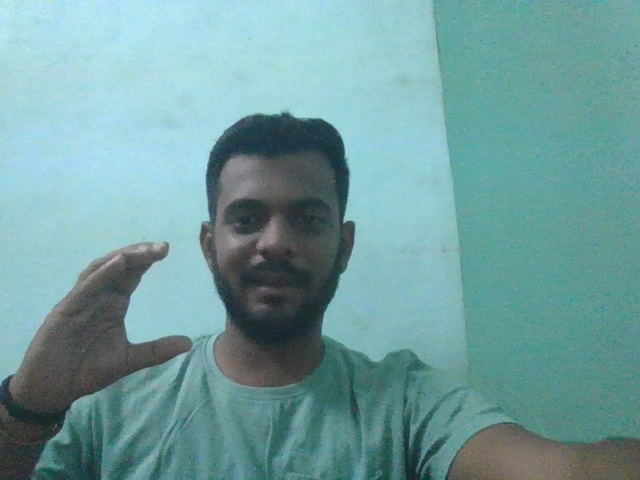no: (29, 237, 200, 398)
